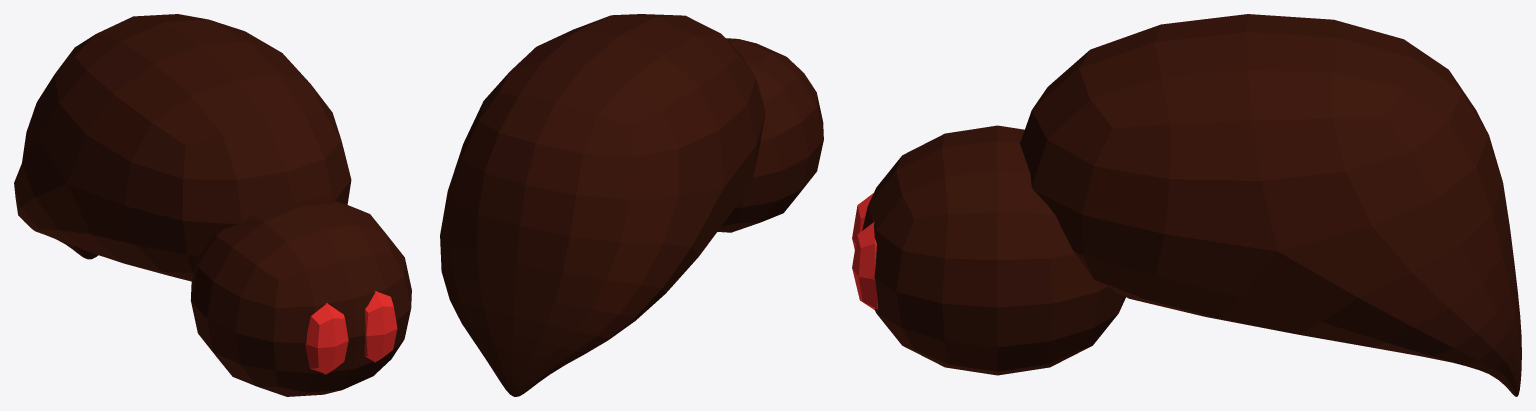
Rendered from Spider_Monster_Arachnophobia.fbx.
3 renders of one model, left to right at view 1: azimuth 30°, elevation 25°; view 2: azimuth 150°, elevation 25°; view 3: azimuth 270°, elevation 25°, orthographic. The views are drawn at different scales.
Visible parts, largest first — view 1: Abdomen, Head, Eye1.R, Eye1.L; view 2: Abdomen, Head; view 3: Abdomen, Head, Eye1.L.
Part boxes in pixels (x1,y1,x2,y2): Abdomen: (14,14,351,281); Head: (190,197,411,396); Eye1.R: (305,303,348,374); Eye1.L: (364,290,397,362); Abdomen: (440,14,765,396); Head: (717,38,823,232); Abdomen: (1020,14,1521,396); Head: (862,125,1125,375); Eye1.L: (852,222,878,309).
Size of the model in its own units: 78.69 by 91.54 by 153.
